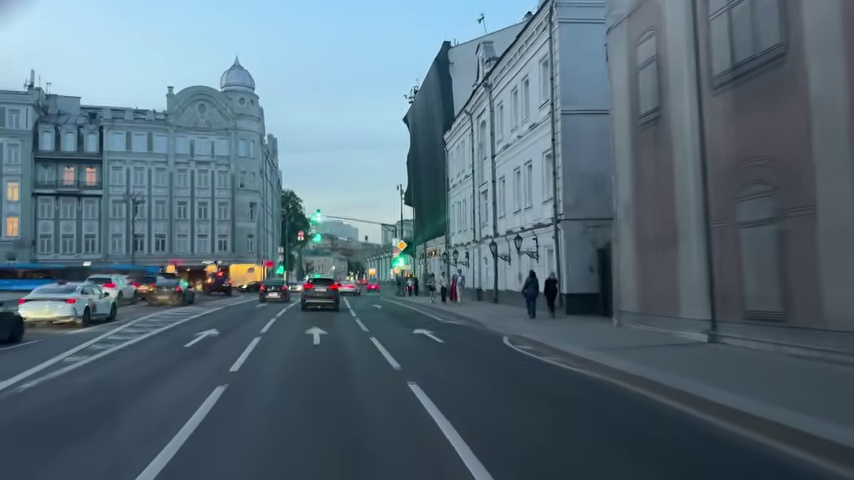acesa: (7, 184, 21, 201), (6, 218, 19, 235)
